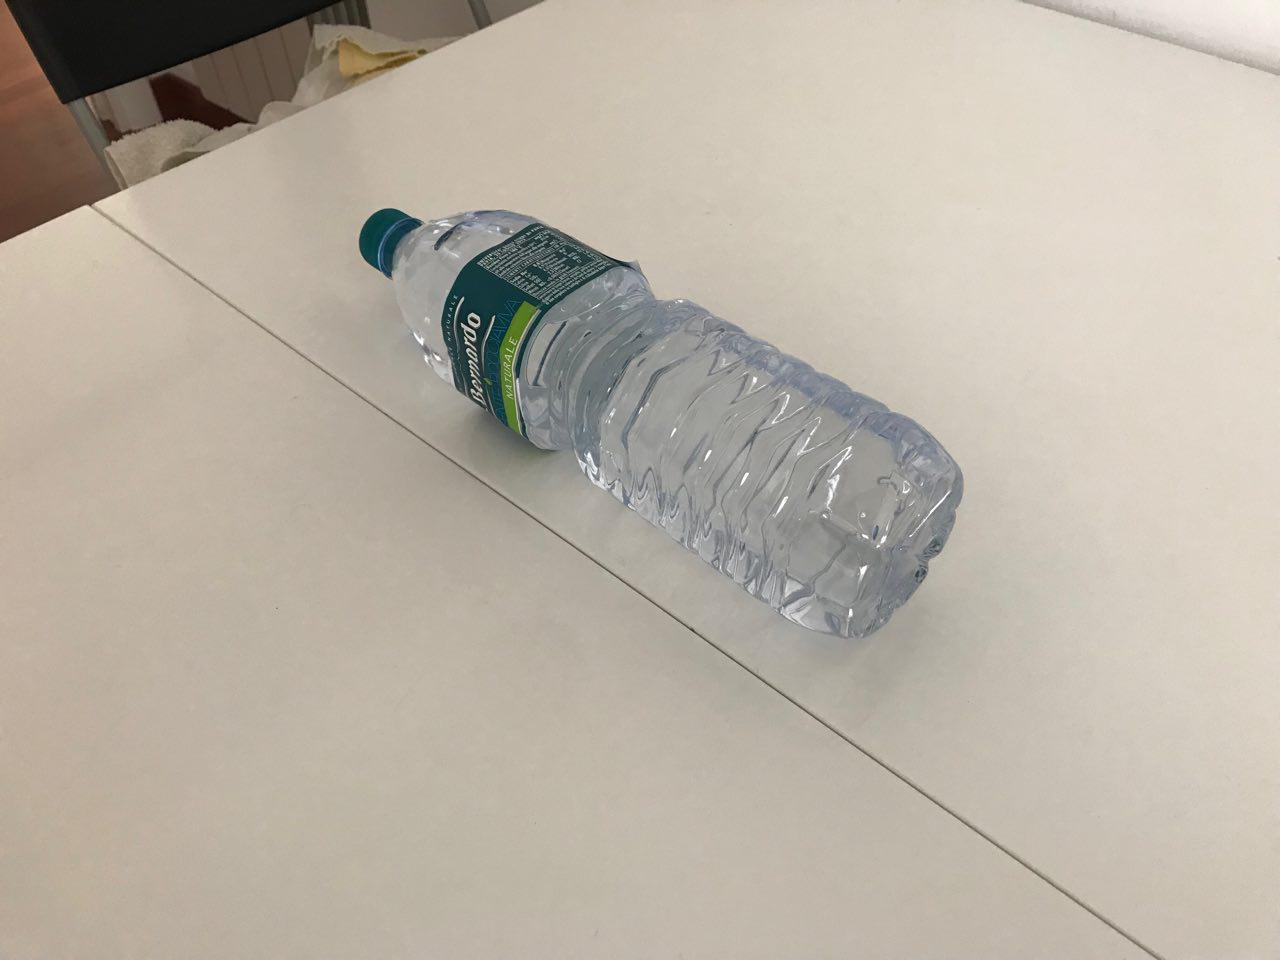san_bernardo: (356, 205, 966, 642)
